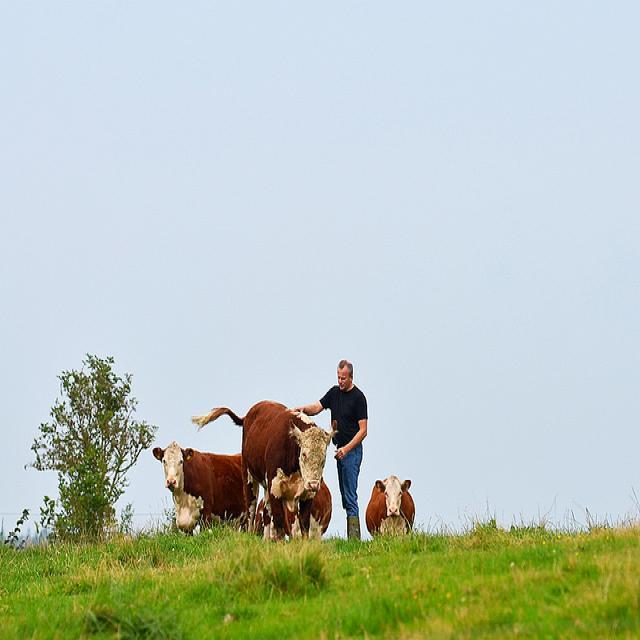cow: (191, 400, 335, 540), (151, 439, 247, 535), (252, 473, 331, 543), (363, 474, 415, 538)
